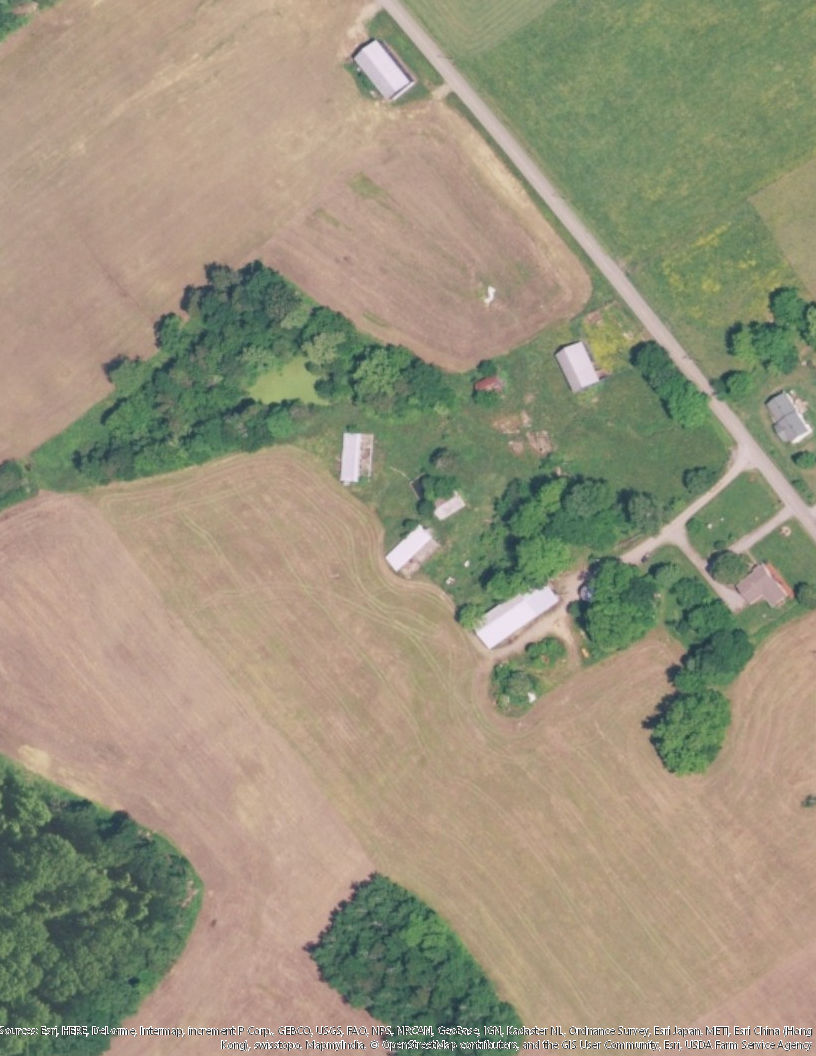cafo: (464, 576, 563, 646), (381, 516, 434, 574)
